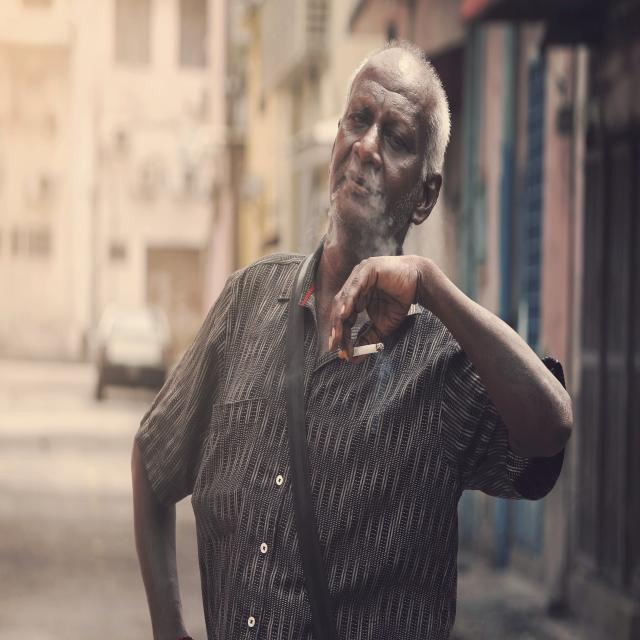adult: (130, 36, 571, 640)
